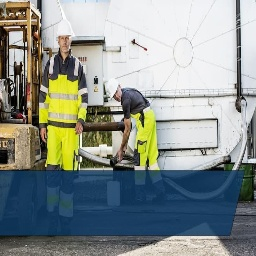helmet: (55, 18, 75, 42), (106, 75, 122, 102)
person: (37, 19, 88, 171), (106, 77, 160, 169)
vest: (42, 55, 83, 137)
